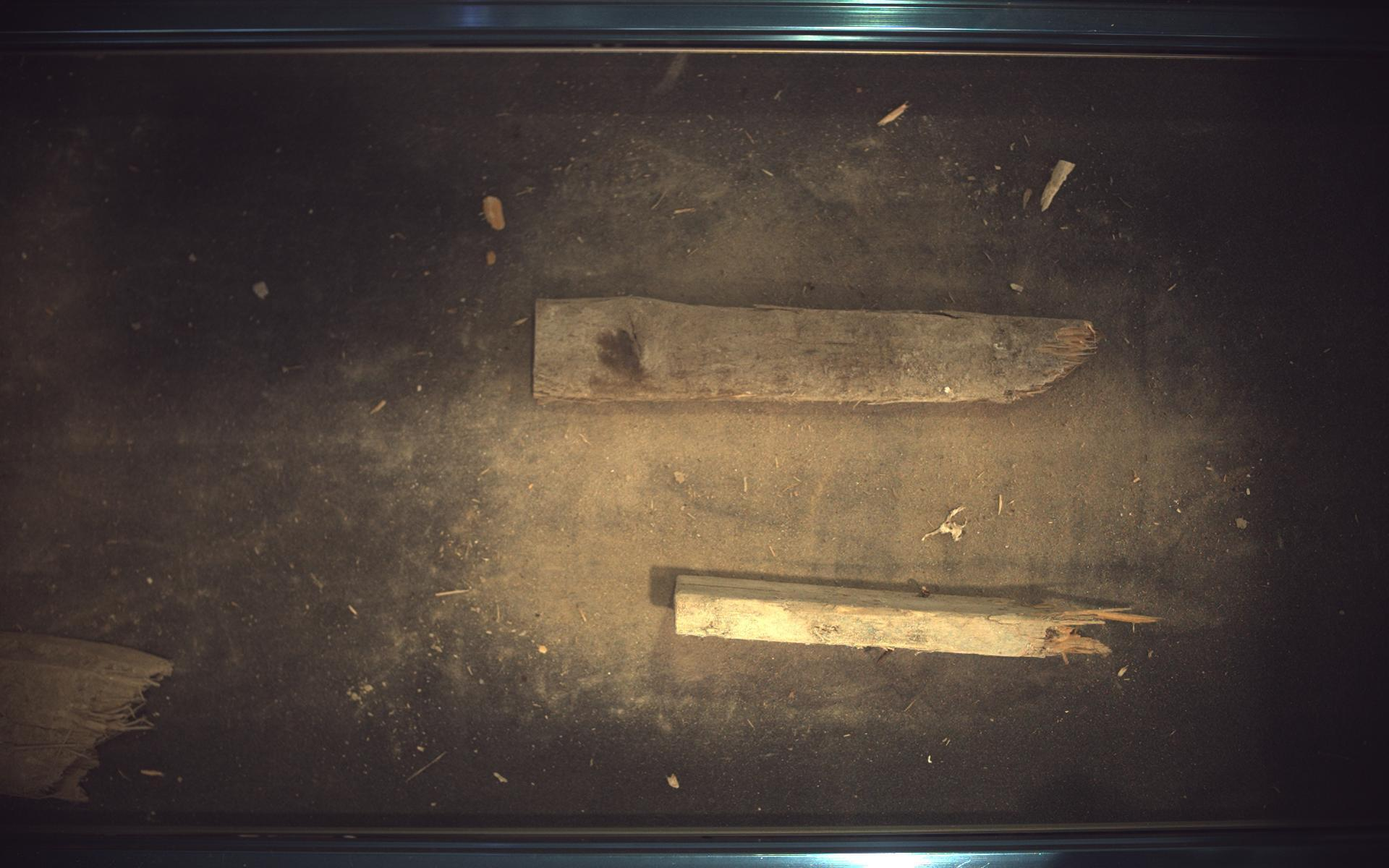wood: (533, 296, 1101, 404), (675, 575, 1160, 658)
